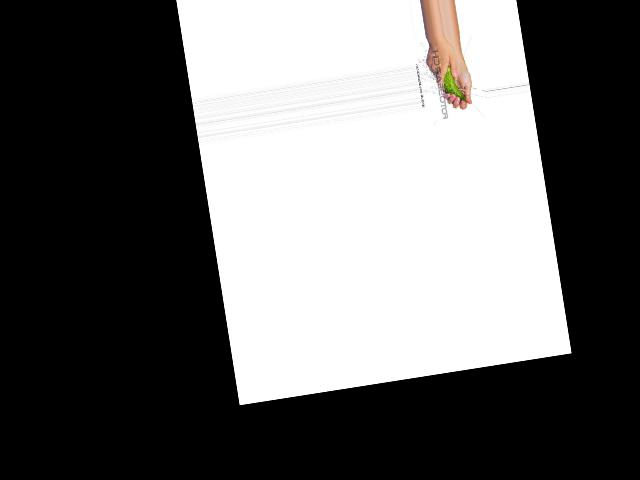cucumber: (439, 62, 465, 104)
